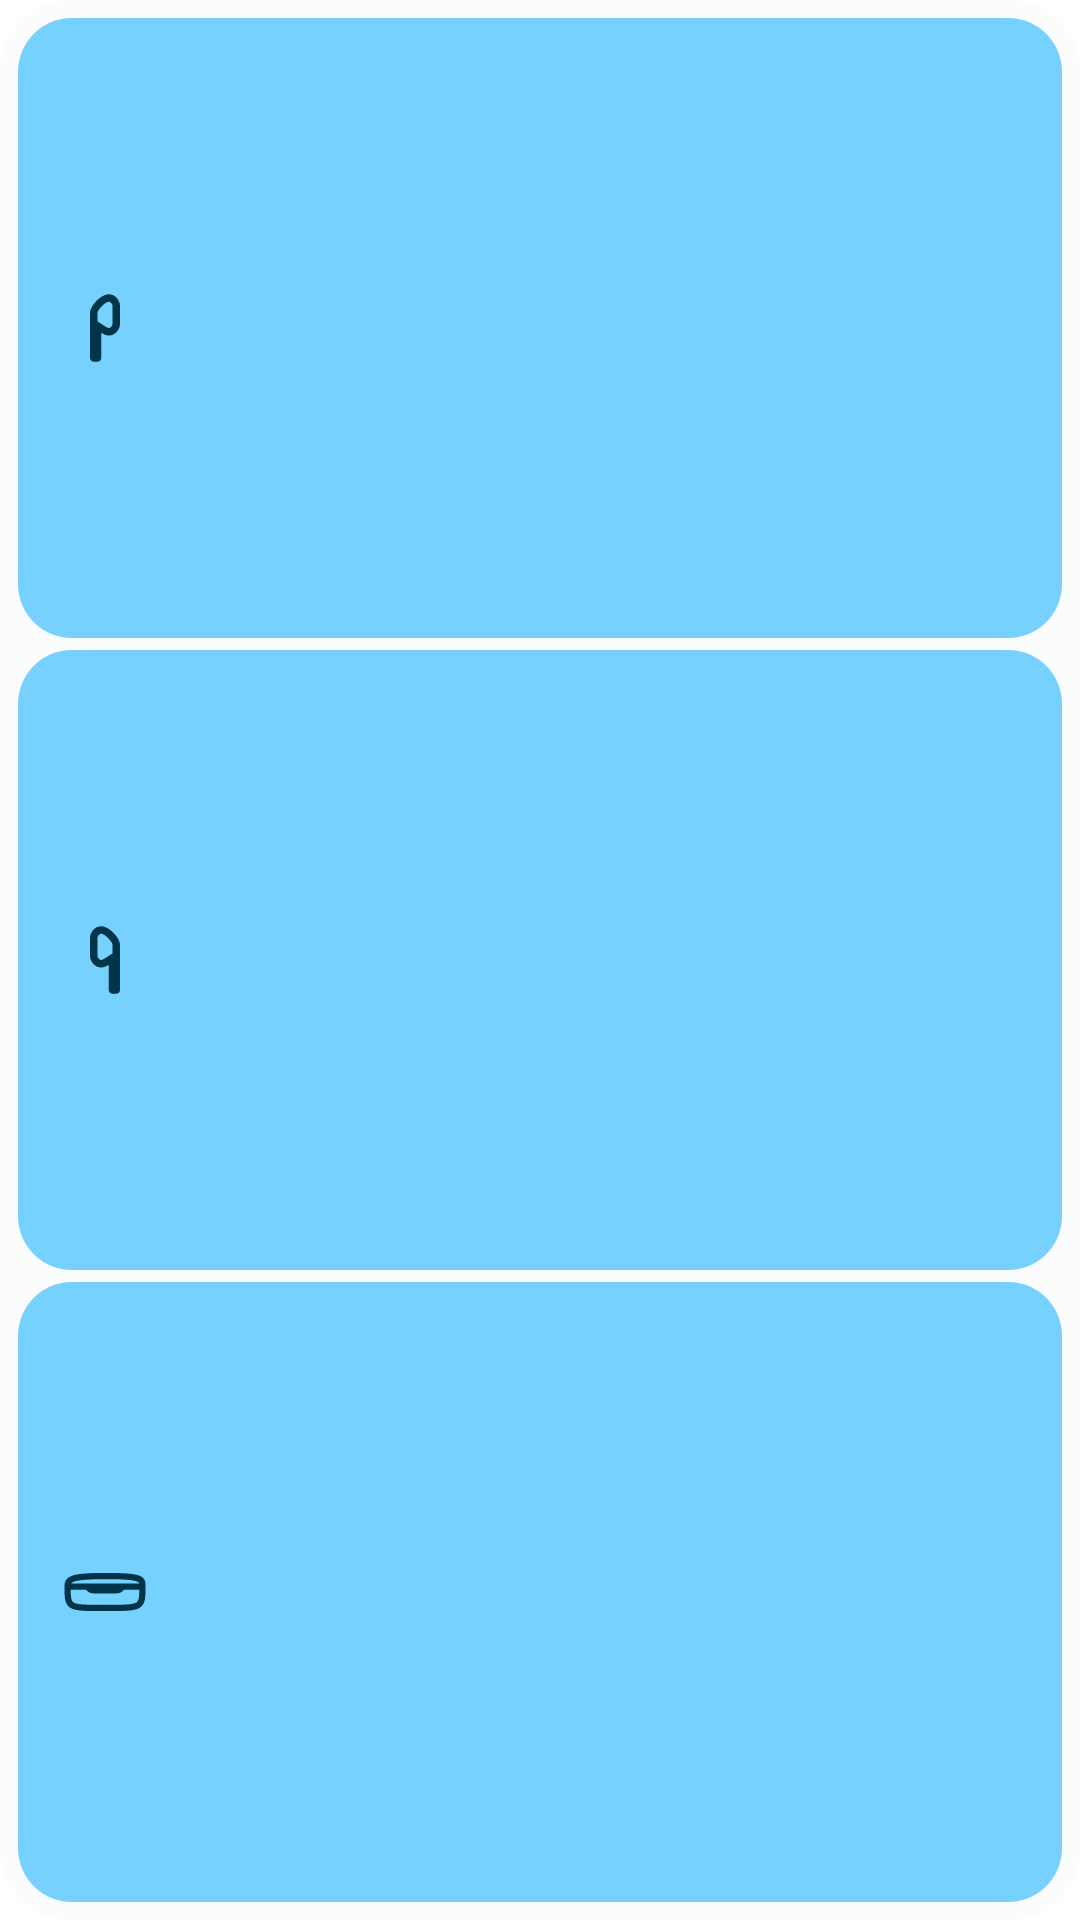

Named icons in this screenshot (1080w x 1920h) and their centers, (x,y):
case: (105,1592)
left bud: (105,328)
right bud: (105,960)
